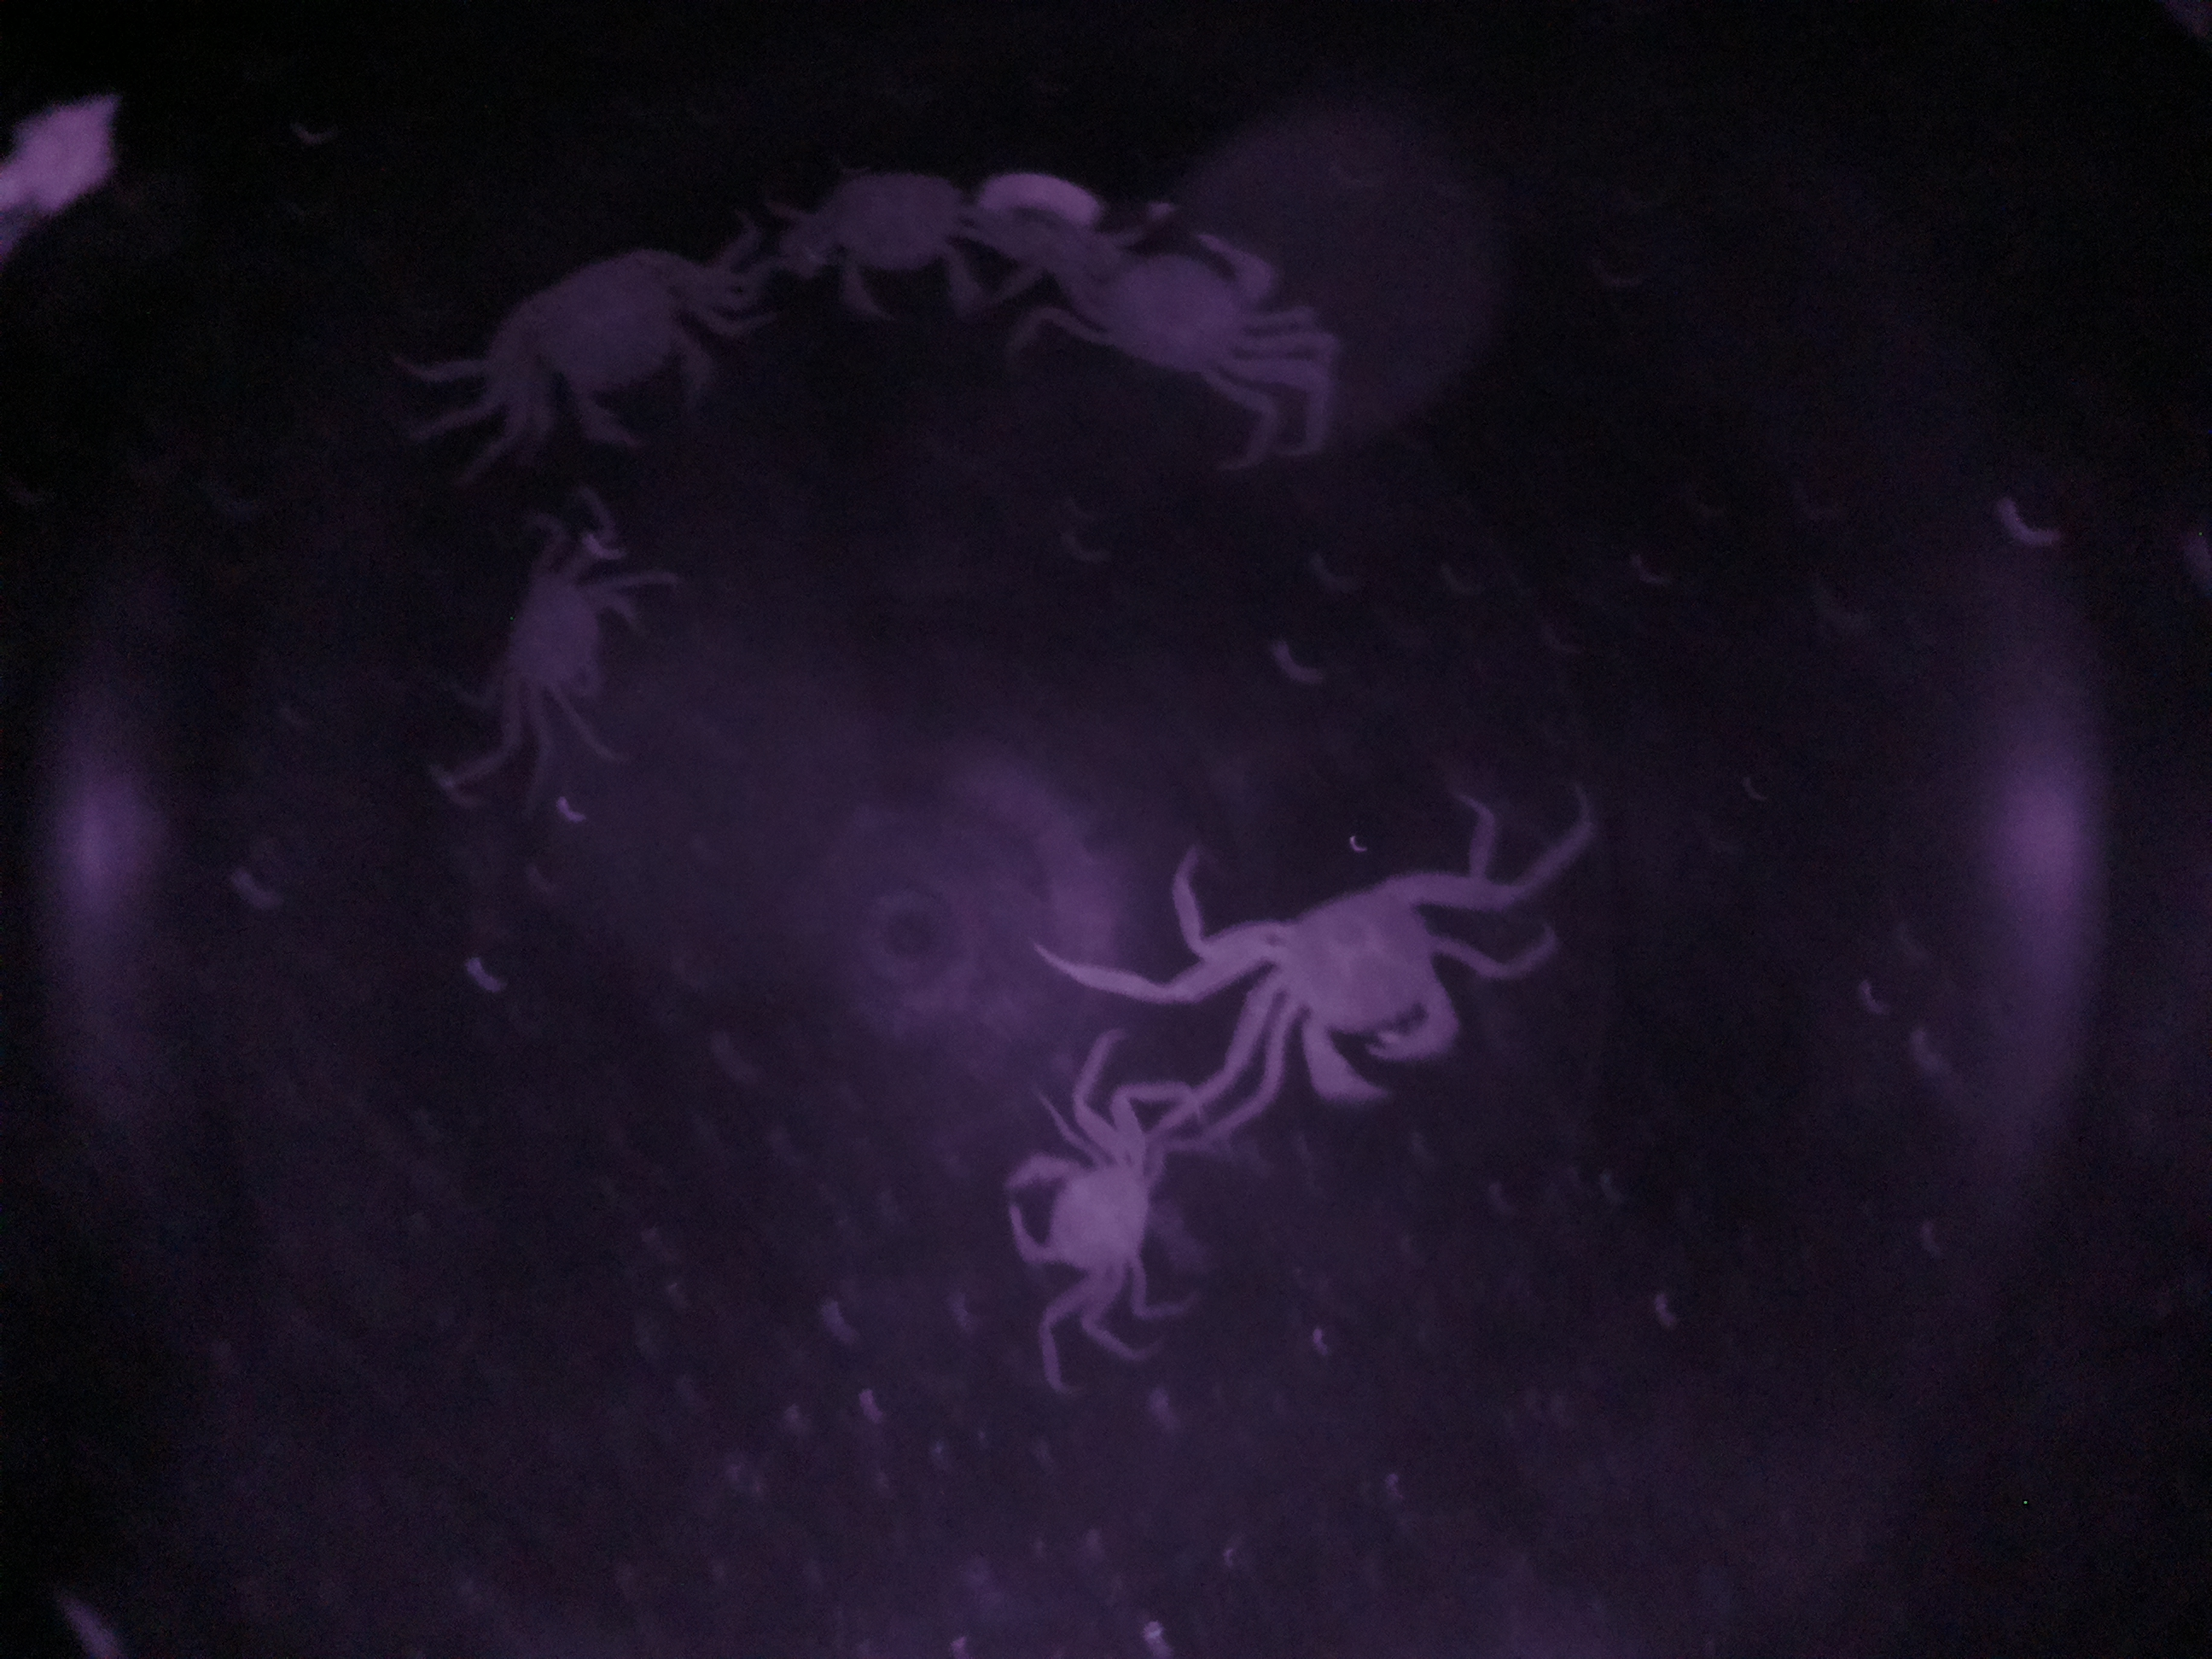Crab: (1195, 852, 1505, 1117), (996, 1107, 1190, 1307)
